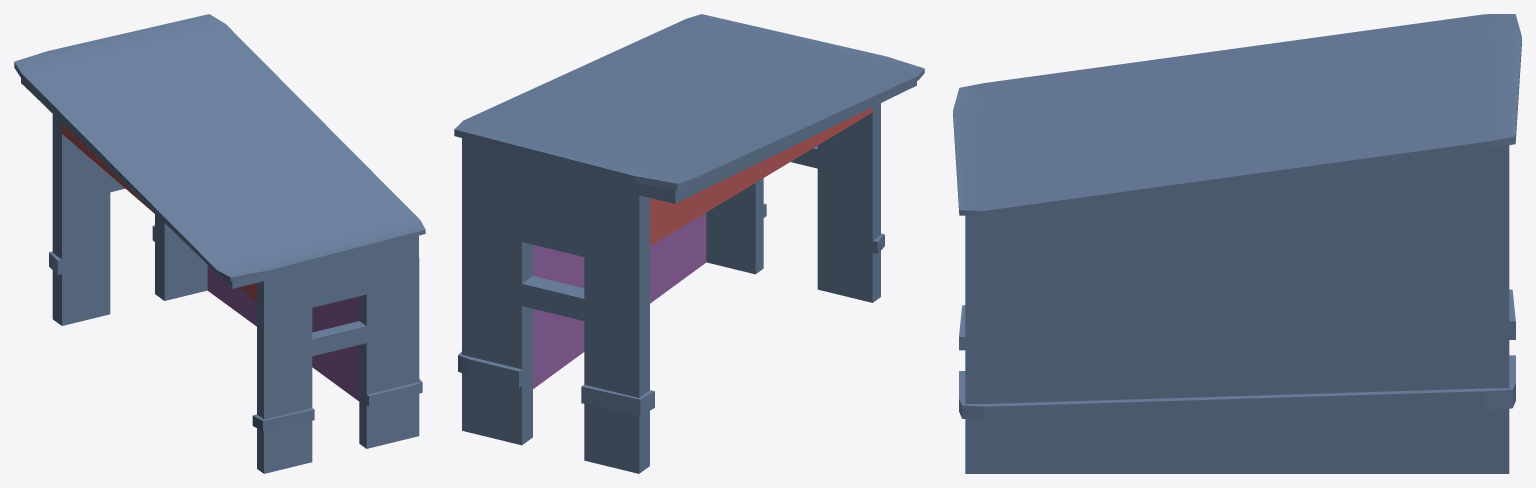
Rendered from market.fbx.
3 views of the same model, side by side, from view 1: azimuth 30°, elevation 25°; view 2: azimuth 150°, elevation 25°; view 3: azimuth 270°, elevation 25° (orthographic). The views are drawn at different scales.
Parts seen in each view (by area): view 1: pCube3; view 2: pCube3; view 3: pCube3.
Boxes of the visible parts, <box> form: pCube3: <box>14,14,425,473</box>; pCube3: <box>454,14,924,473</box>; pCube3: <box>953,14,1521,473</box>.
Size of the model in its own units: 12.02 by 14.91 by 22.61.
